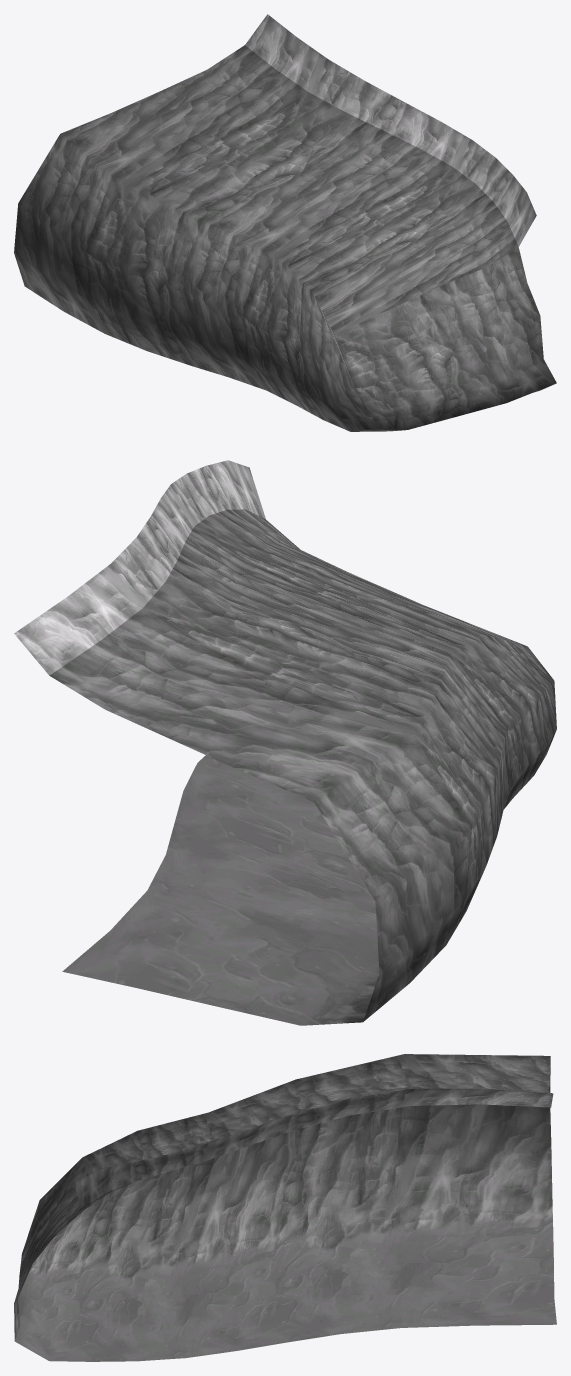
Rendered from SWORDLIGHT20_PS-AREA03_25.fbx.
3 views of the same model, one above another, from view 1: azimuth 30°, elevation 25°; view 2: azimuth 150°, elevation 25°; view 3: azimuth 270°, elevation 25° (orthographic). The views are drawn at different scales.
Parts seen in each view (by area): view 1: SWORDLIGHT20_PS-AREA03_25; view 2: SWORDLIGHT20_PS-AREA03_25; view 3: SWORDLIGHT20_PS-AREA03_25.
Boxes of the visible parts, bbox=[...] form: SWORDLIGHT20_PS-AREA03_25: bbox=[14, 14, 556, 431]; SWORDLIGHT20_PS-AREA03_25: bbox=[14, 460, 556, 1025]; SWORDLIGHT20_PS-AREA03_25: bbox=[14, 1054, 556, 1361].
Size of the model in its own units: 100595 by 70990 by 137970.
4 materials, 4 textured.
